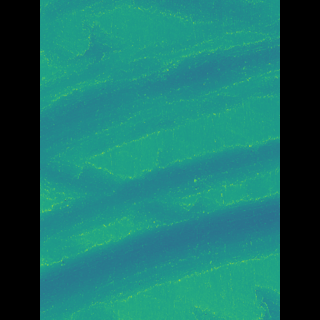Loch: (68, 20, 250, 179), (69, 190, 250, 320), (69, 135, 249, 248)
